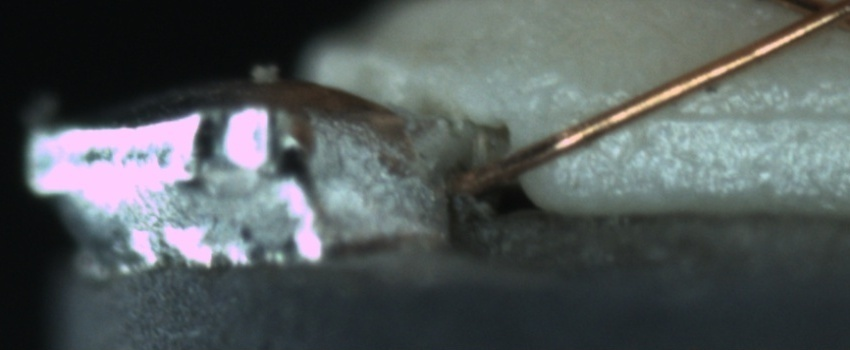CL: (774, 0, 850, 42)
DL: (623, 78, 848, 148)
